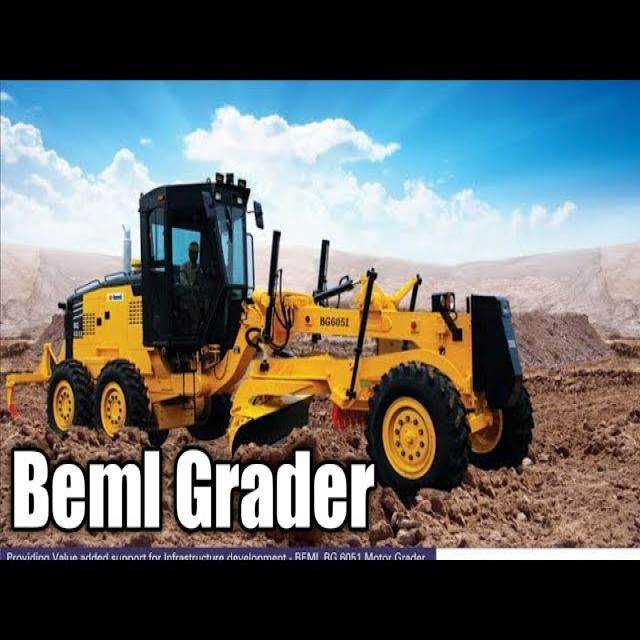buldozerpayloadergrader: (61, 177, 538, 480)
